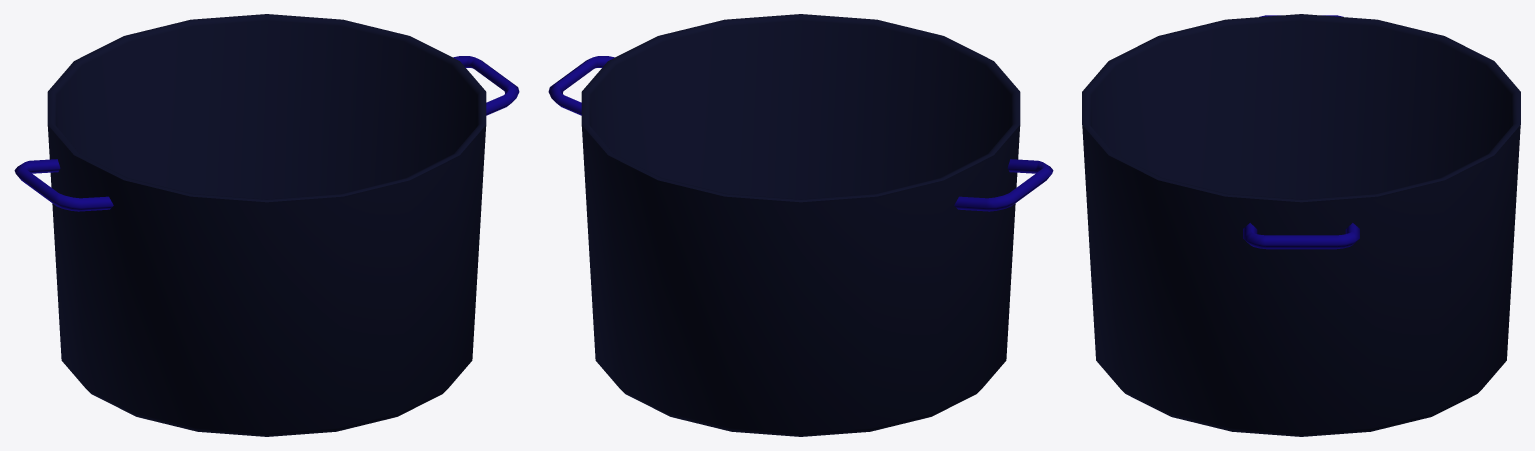
Rendered from SM_Pan_03.fbx.
3 renders of one model, left to right at view 1: azimuth 30°, elevation 25°; view 2: azimuth 150°, elevation 25°; view 3: azimuth 270°, elevation 25°, orthographic.
Parts seen in each view (by area): view 1: SM_Pan_03; view 2: SM_Pan_03; view 3: SM_Pan_03.
Part boxes in pixels (x1,y1,x2,y2): SM_Pan_03: (14,14,519,436); SM_Pan_03: (548,14,1053,436); SM_Pan_03: (1082,14,1520,436).
Size of the model in its own units: 56.5 by 28.52 by 46.11.
